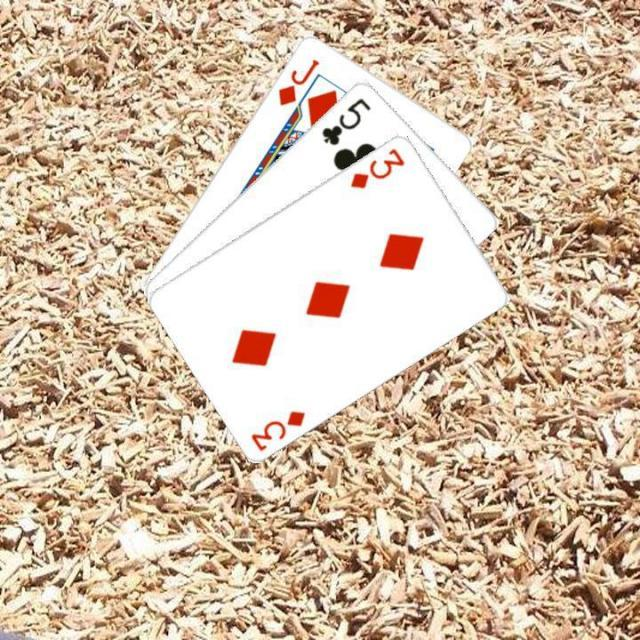3D: (346, 143, 408, 190), (246, 406, 308, 452)
5C: (318, 92, 372, 148)
JD: (274, 54, 321, 108)
